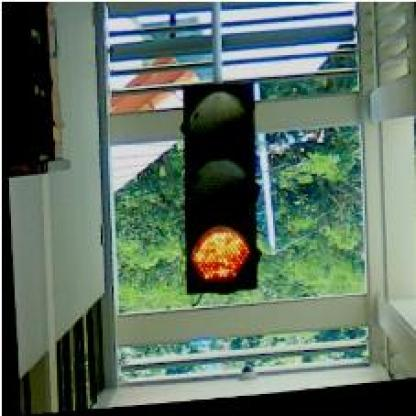red: (173, 79, 263, 299)
